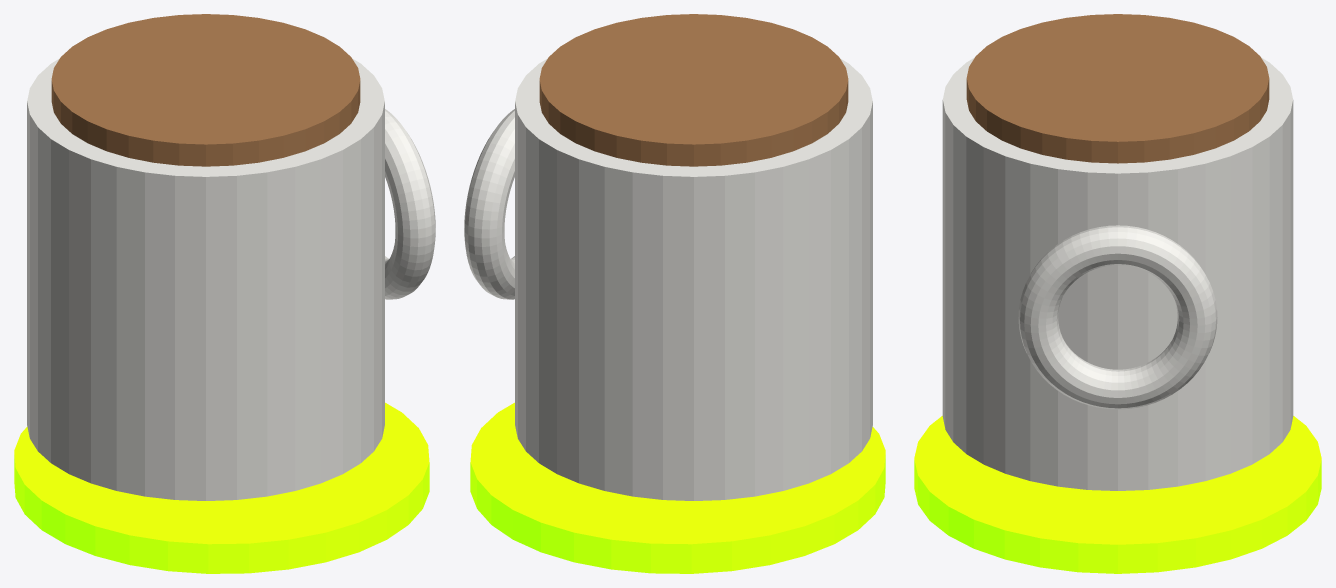
Rendered from food_coffee_cup.glb.
3 views of the same model, side by side, from view 1: azimuth 30°, elevation 25°; view 2: azimuth 150°, elevation 25°; view 3: azimuth 270°, elevation 25° (orthographic). The views are drawn at different scales.
Visible parts, largest first — view 1: 01_18_Popular_Food_Coffee_Cup_part_01, 01_18_Popular_Food_Coffee_Cup_part_03, 01_18_Popular_Food_Coffee_Cup_ROOT_base, 01_18_Popular_Food_Coffee_Cup_part_02; view 2: 01_18_Popular_Food_Coffee_Cup_part_01, 01_18_Popular_Food_Coffee_Cup_part_03, 01_18_Popular_Food_Coffee_Cup_ROOT_base, 01_18_Popular_Food_Coffee_Cup_part_02; view 3: 01_18_Popular_Food_Coffee_Cup_part_01, 01_18_Popular_Food_Coffee_Cup_part_03, 01_18_Popular_Food_Coffee_Cup_ROOT_base, 01_18_Popular_Food_Coffee_Cup_part_02.
Part boxes in pixels (x1,y1,x2,y2): 01_18_Popular_Food_Coffee_Cup_part_01: (27, 58, 384, 500); 01_18_Popular_Food_Coffee_Cup_part_03: (51, 14, 360, 166); 01_18_Popular_Food_Coffee_Cup_ROOT_base: (14, 402, 429, 573); 01_18_Popular_Food_Coffee_Cup_part_02: (385, 109, 435, 299); 01_18_Popular_Food_Coffee_Cup_part_01: (515, 58, 872, 500); 01_18_Popular_Food_Coffee_Cup_part_03: (539, 14, 848, 166); 01_18_Popular_Food_Coffee_Cup_ROOT_base: (470, 402, 885, 573); 01_18_Popular_Food_Coffee_Cup_part_02: (464, 109, 514, 299); 01_18_Popular_Food_Coffee_Cup_part_01: (942, 57, 1293, 490); 01_18_Popular_Food_Coffee_Cup_part_03: (966, 14, 1269, 163); 01_18_Popular_Food_Coffee_Cup_ROOT_base: (914, 416, 1321, 573); 01_18_Popular_Food_Coffee_Cup_part_02: (1018, 225, 1217, 409).
Bounding box in the file's own units: 0.76 × 0.8277 × 0.76.
